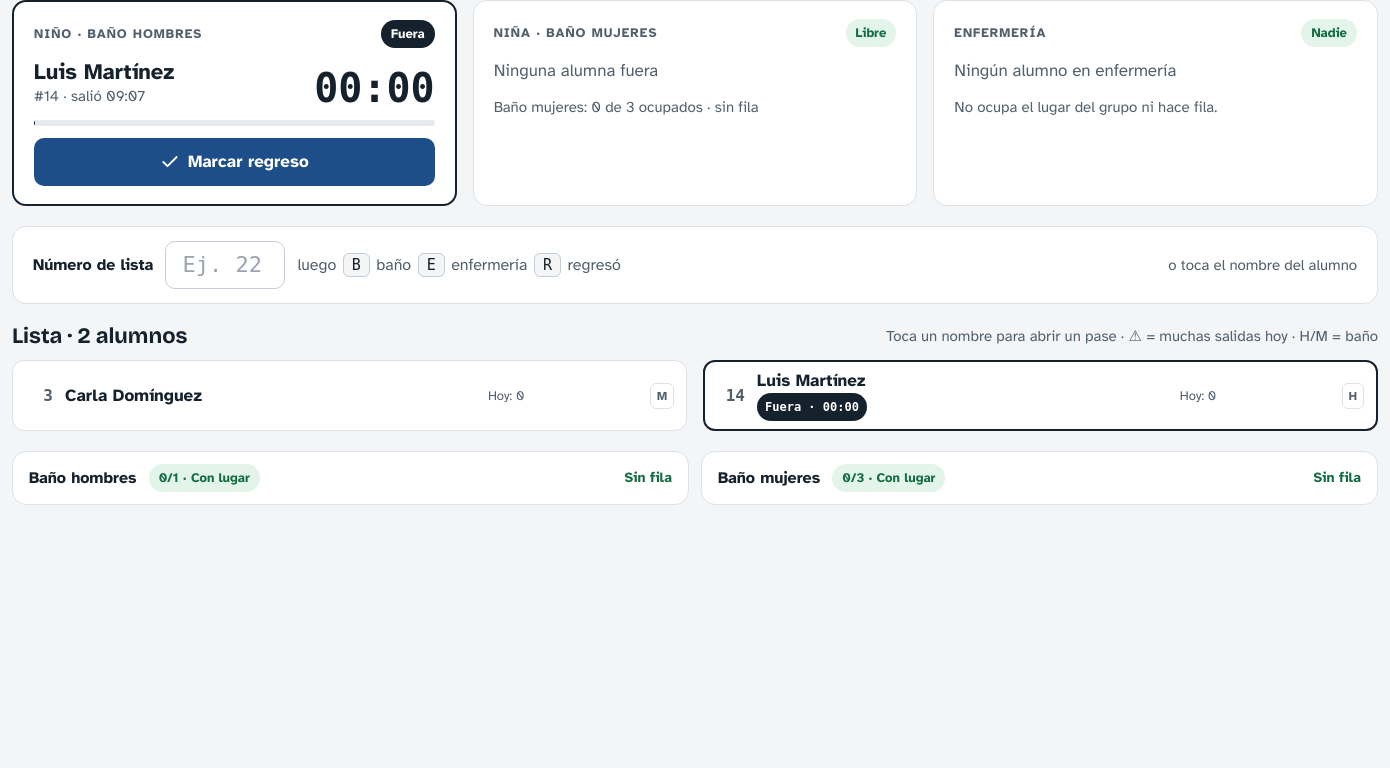
Test case: captura rápida › muestra el error de la BD tal cual (ya viene en español)
Type "3" into the field labelled "Número de lista".
click(226, 265); type("3")  # box x1=166 y1=241 x2=286 y2=289
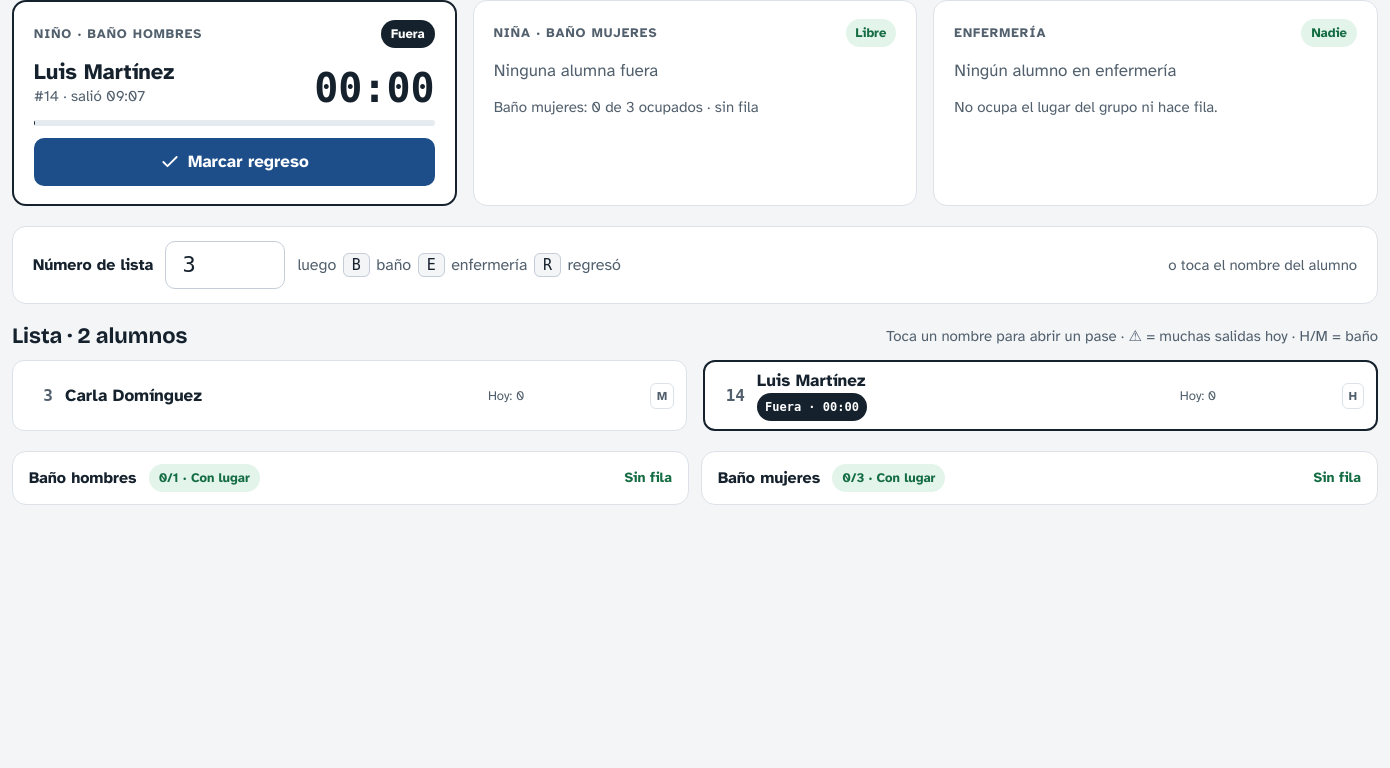
Press e in the field labelled "Número de lista", box x1=166 y1=241 x2=286 y2=289
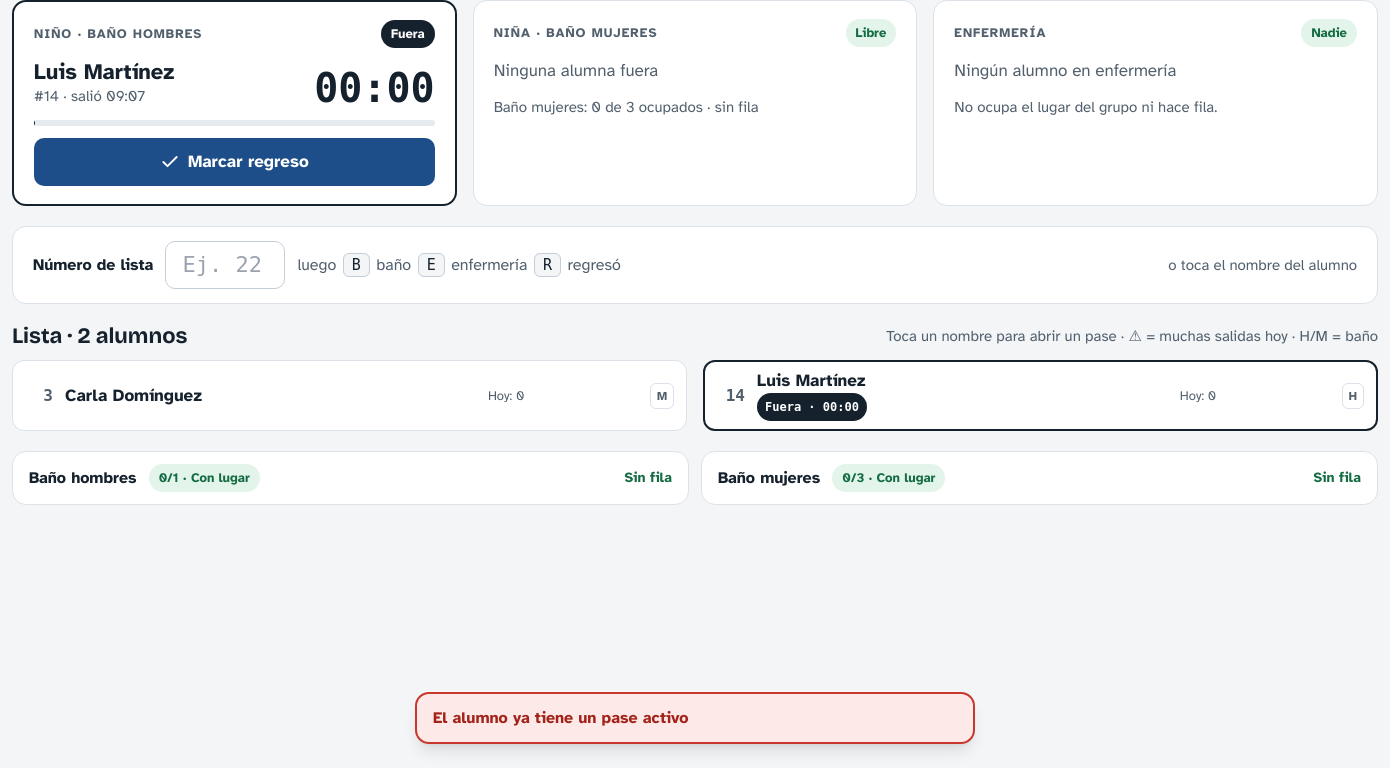
Expected: the message reads "El alumno ya tiene un pase activo", x1=433 y1=708 x2=688 y2=728
